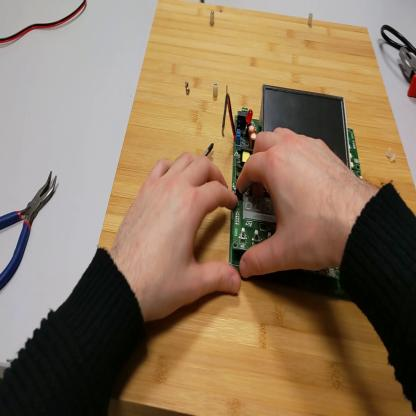hand: (116, 151, 240, 320), (236, 125, 358, 283)
low voltage board: (221, 86, 361, 298)
pliers: (2, 167, 55, 292), (401, 44, 416, 100)
screwdriver-: (205, 138, 215, 159)
working area: (97, 8, 416, 415)
